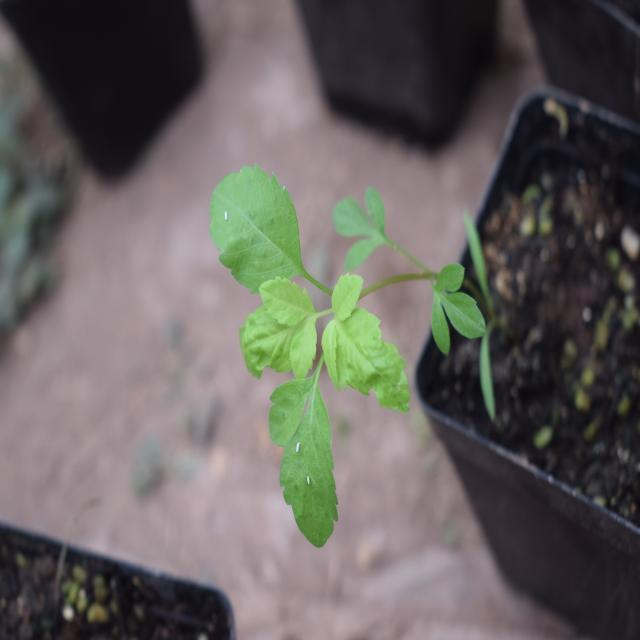Bidens pilosa: (188, 154, 480, 554)
